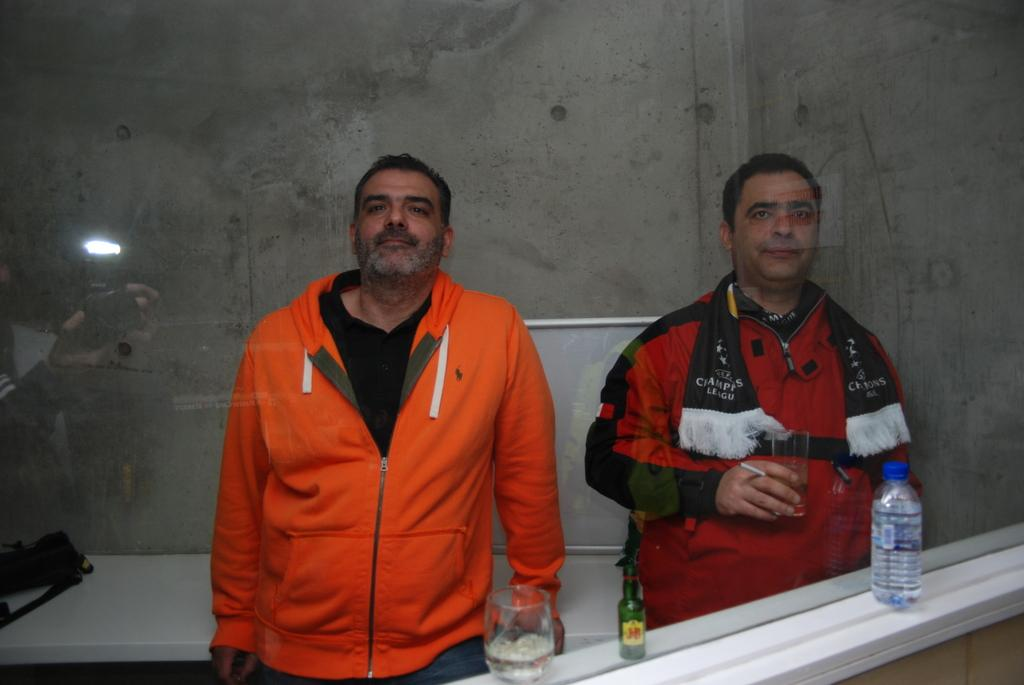Sem Máscara: (352, 171, 443, 281), (731, 170, 812, 281)
